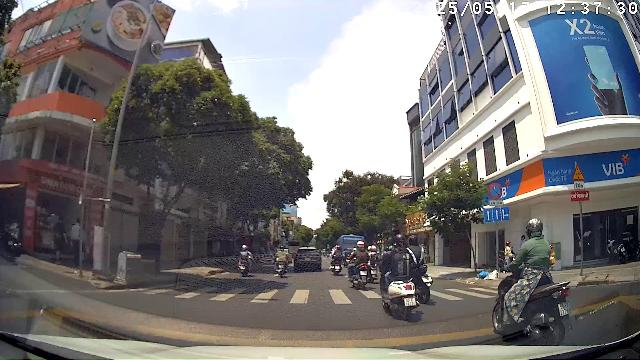131a-cam-do-xe: (488, 183, 502, 199)
